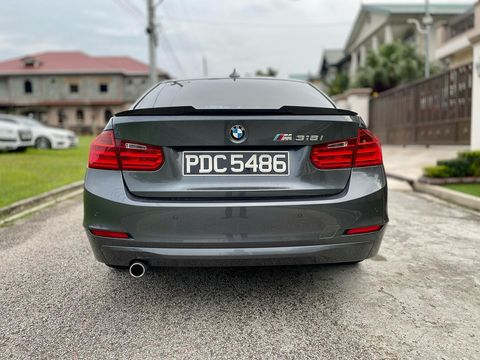License-Plate: (183, 151, 288, 174)
